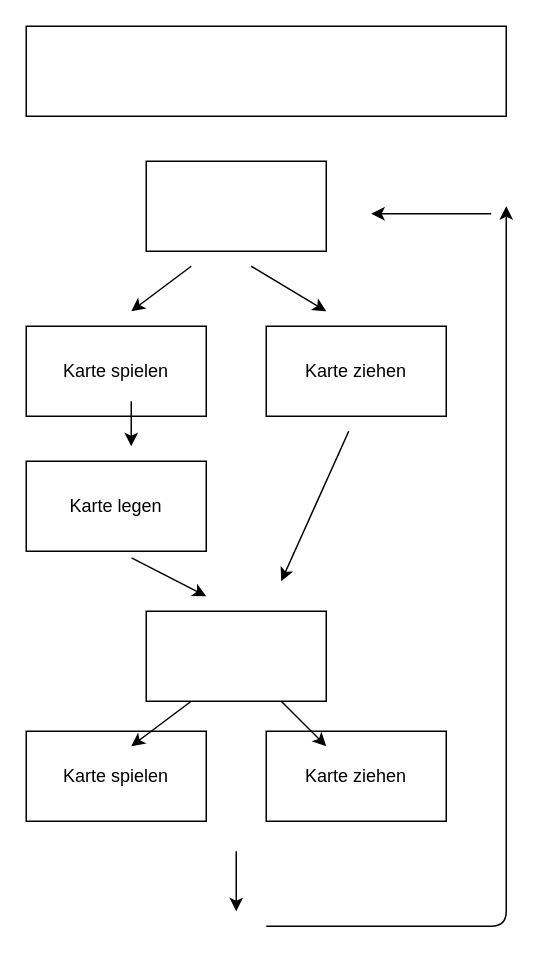
Image size: 545x965. Some labels were removed from this diagram. Each missing label, with the centre of its shape:
Ausgangssituation: (235,205)
Computer Zug: (235,655)
Kartenspiel Konzept: (265,70)
